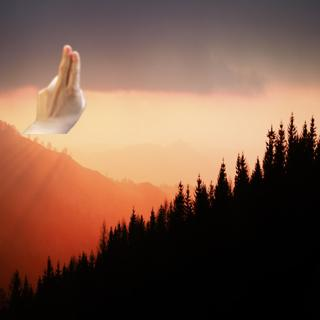DHAVE: (30, 39, 88, 129)
